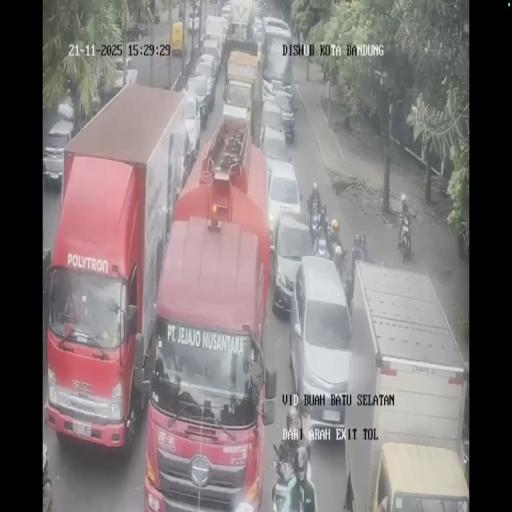car: (271, 208, 314, 318), (259, 120, 289, 166), (185, 73, 210, 127), (271, 86, 294, 120), (200, 40, 220, 77), (85, 78, 102, 112), (111, 53, 133, 78), (252, 16, 264, 47), (220, 1, 232, 28), (251, 0, 262, 18)
motorcycle: (398, 213, 412, 263), (330, 240, 346, 280), (307, 203, 321, 244)
truck: (46, 82, 196, 454), (334, 259, 468, 510), (260, 18, 292, 84), (125, 19, 146, 41), (171, 21, 184, 56)
